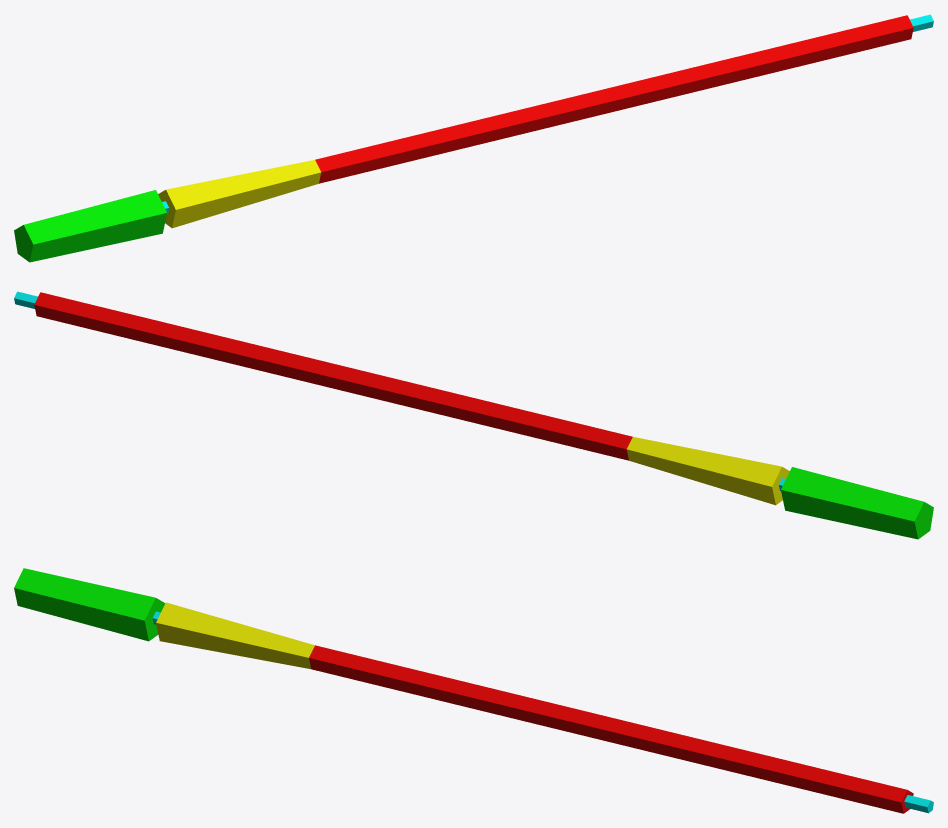
File: M_ArsNeedle.fbx
3 views of the same model, one above another, from view 1: azimuth 30°, elevation 25°; view 2: azimuth 150°, elevation 25°; view 3: azimuth 330°, elevation 25° (orthographic).
Parts seen in each view (by area): view 1: pCylinder9; view 2: pCylinder9; view 3: pCylinder9.
Boxes of the visible parts, box(x1,y1,x2,y2) form: pCylinder9: box(14, 14, 933, 262); pCylinder9: box(14, 291, 933, 539); pCylinder9: box(14, 568, 933, 813).
Size of the model in its own units: 16 by 0.6525 by 0.6861.
